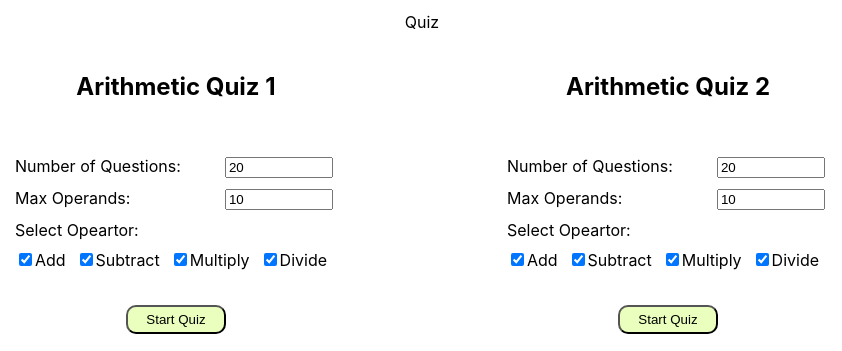
renders questions component
Click the button "Start Quiz" below "Arithmetic Quiz 1". click: (176, 319)
box: [126,305,226,334]
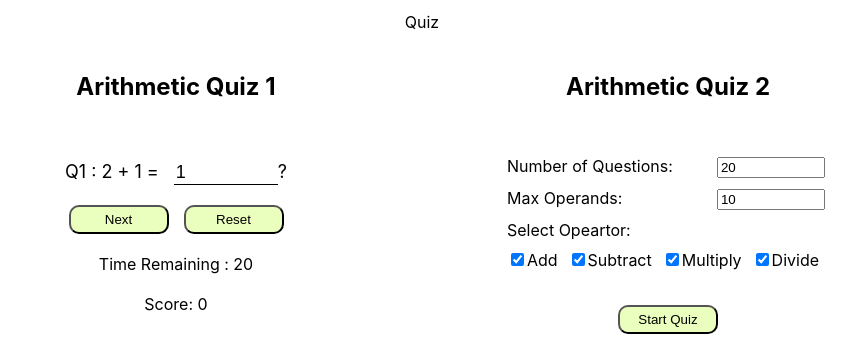
Expected: the button "Next" is shown, [68,205,168,234]
